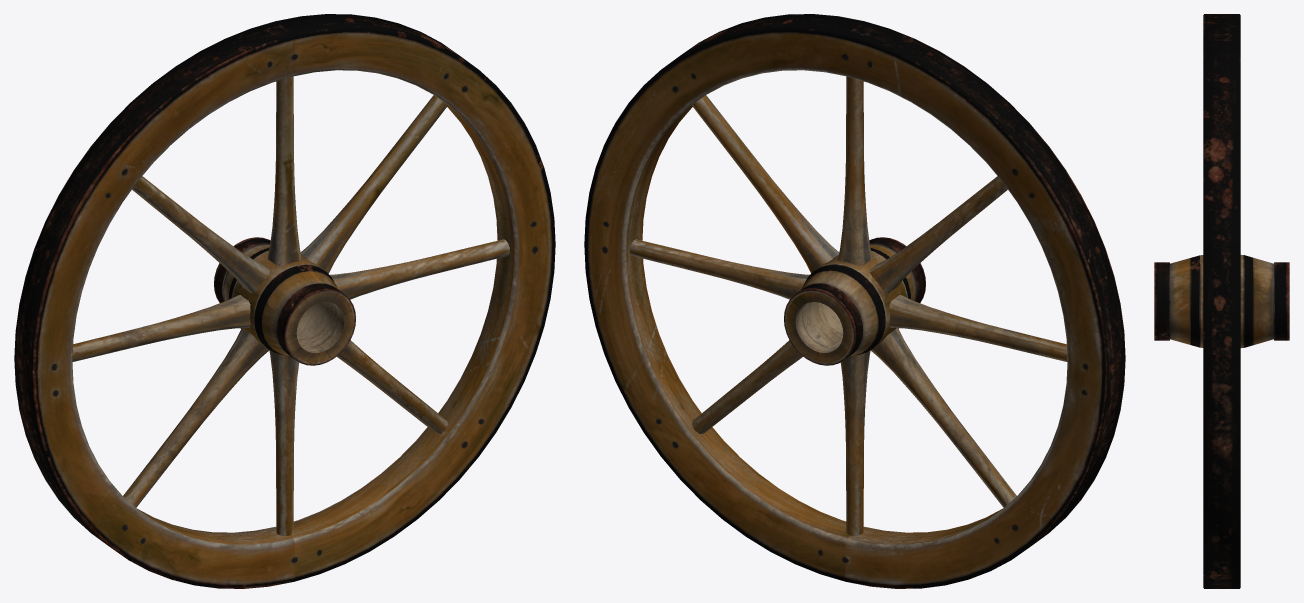
The model's file is Prop_Wood_Wheel.fbx.
3 renders of one model, left to right at view 1: azimuth 30°, elevation 25°; view 2: azimuth 150°, elevation 25°; view 3: azimuth 270°, elevation 25°, orthographic. The views are drawn at different scales.
Visible parts, largest first — view 1: Prop_Wood_Wheel; view 2: Prop_Wood_Wheel; view 3: Prop_Wood_Wheel.
Part boxes in pixels (box(x1,y1,x2,y2)): Prop_Wood_Wheel: box(14, 14, 555, 588); Prop_Wood_Wheel: box(584, 14, 1125, 588); Prop_Wood_Wheel: box(1154, 14, 1289, 588).
Size of the model in its own units: 50.73 by 50.73 by 11.96.
